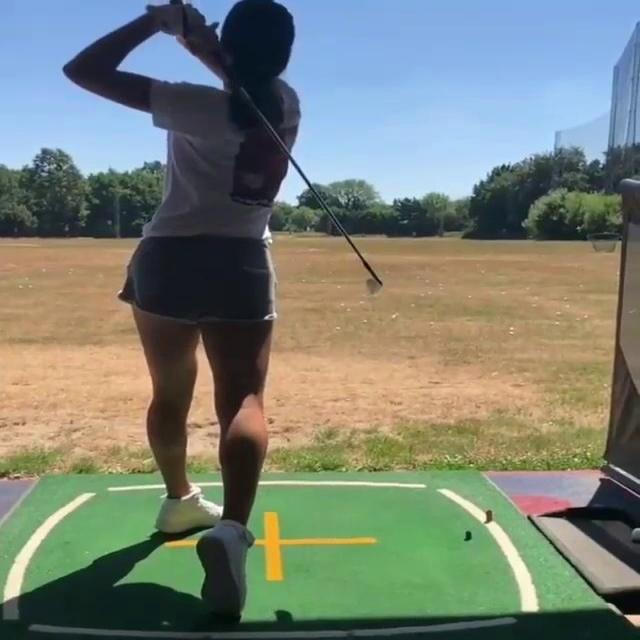golf ball: (632, 528, 640, 540)
golf club-handle: (168, 0, 383, 293)
golf club-head: (366, 278, 383, 293)
